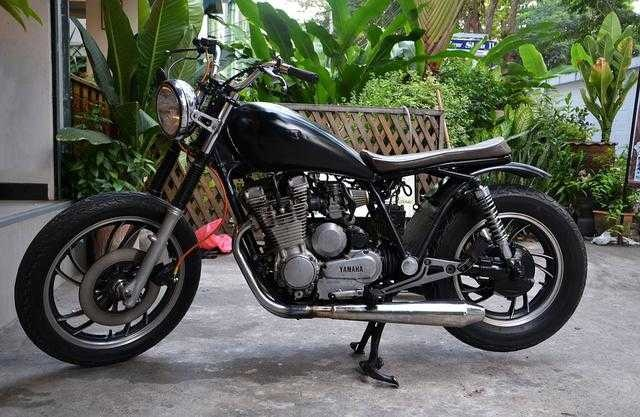motorbike: (14, 35, 585, 365)
